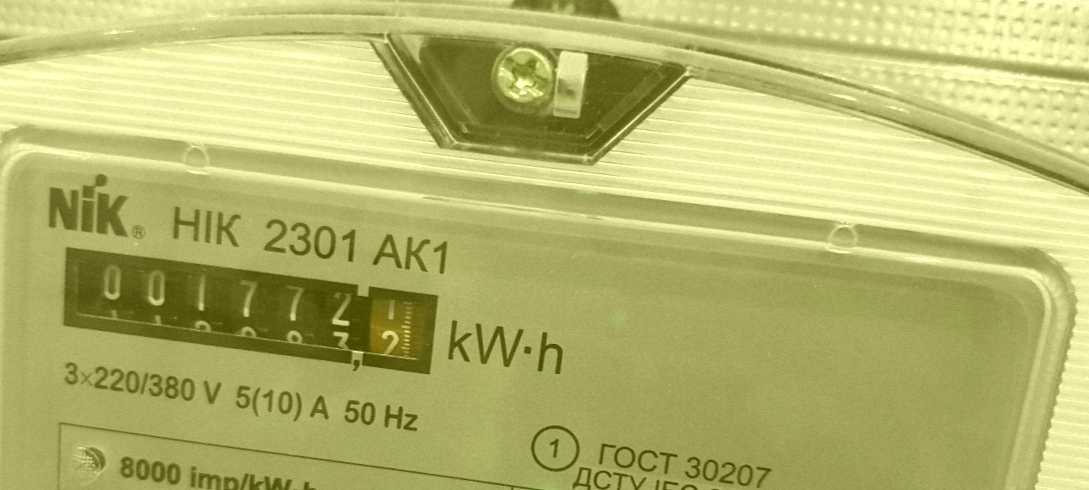0: (93, 259, 126, 303), (141, 266, 169, 308)
1: (189, 272, 211, 313), (381, 297, 398, 324)
2: (326, 290, 354, 330), (373, 326, 400, 358)
3: (327, 328, 352, 352)
7: (231, 277, 259, 321), (278, 283, 304, 324)
screen: (40, 227, 459, 395)
